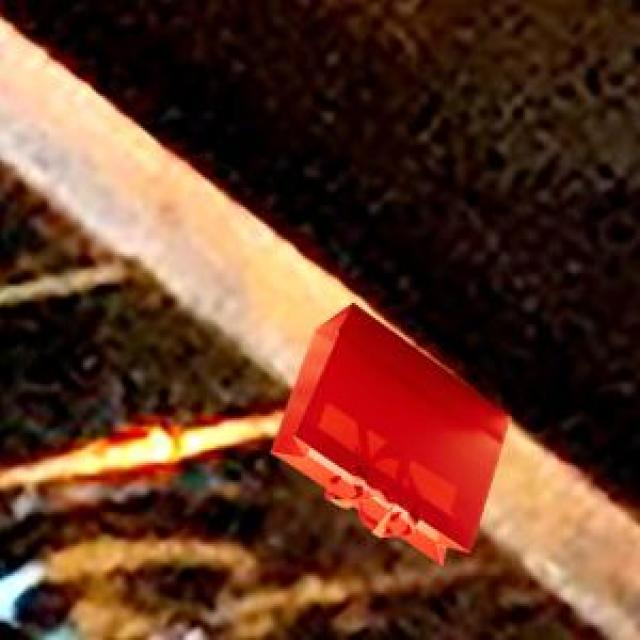Paper_Bag: (268, 300, 507, 560)
